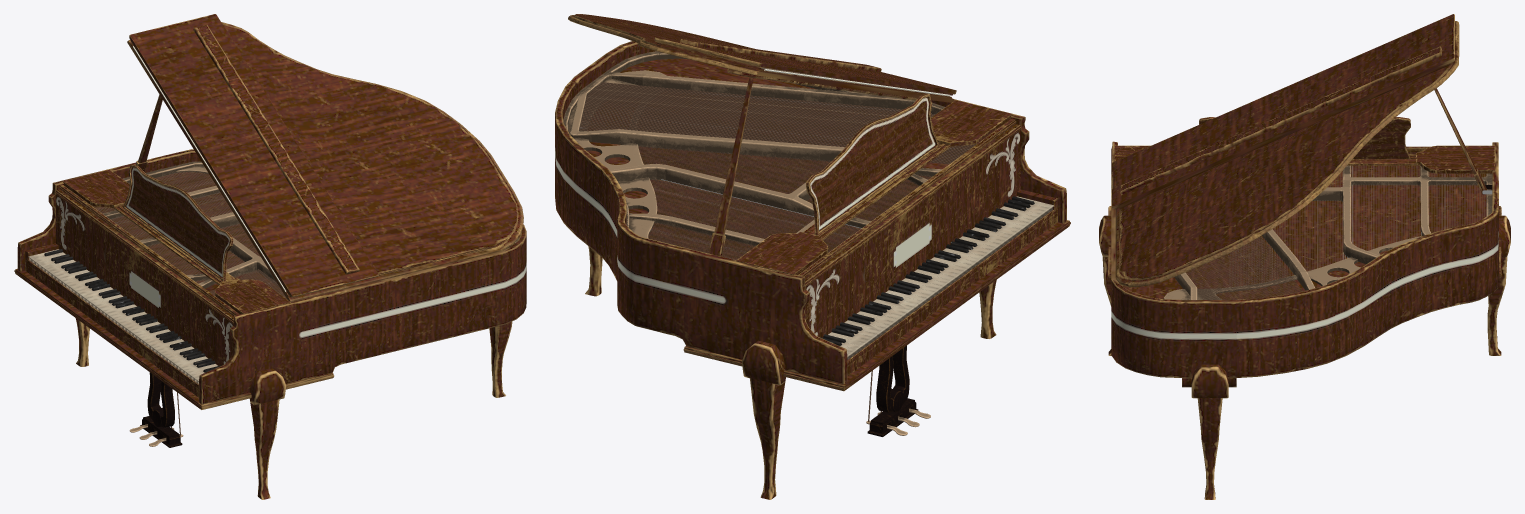
Rendered from piano_no_floor.obj.
The picture shows the model from 3 angles, left to right: view 1: azimuth 30°, elevation 25°; view 2: azimuth 150°, elevation 25°; view 3: azimuth 270°, elevation 25°; orthographic projection. The views are drawn at different scales.
Parts seen in each view (by area): view 1: Forme_Forme_0, Structure_Avant_Structure_Avant_0, object 4, Clavier_Clavier_0; view 2: Forme_Forme_0, object 4, Structure_Avant_Structure_Avant_0, Clavier_Clavier_0; view 3: Forme_Forme_0, object 4, Structure_Avant_Structure_Avant_0.
Part boxes in pixels (left/top/right/bottom): Forme_Forme_0: left=14, top=14, right=526, bottom=499; Structure_Avant_Structure_Avant_0: left=25, top=164, right=290, bottom=397; object 4: left=92, top=161, right=519, bottom=447; Clavier_Clavier_0: left=28, top=249, right=220, bottom=384; Forme_Forme_0: left=555, top=14, right=1070, bottom=499; object 4: left=563, top=51, right=977, bottom=436; Structure_Avant_Structure_Avant_0: left=736, top=94, right=1057, bottom=375; Clavier_Clavier_0: left=820, top=196, right=1053, bottom=359; Forme_Forme_0: left=1099, top=14, right=1510, bottom=499; object 4: left=1122, top=165, right=1492, bottom=299; Structure_Avant_Structure_Avant_0: left=1114, top=117, right=1494, bottom=173.
Size of the model in its own units: 2.35 by 2.13 by 2.23.
Materials: 4 (4 with a texture image).
